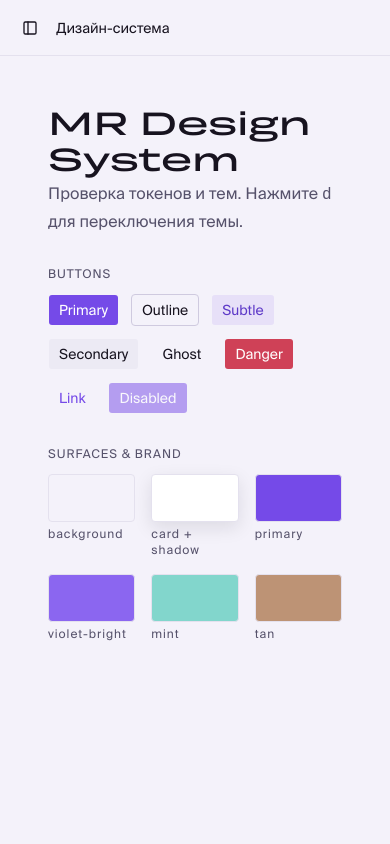
Test case: AppShell — футер › при сворачивании сайдбара футер (тема и юзер) не ломается
Click the button named "Свернуть меню" at {"x": 30, "y": 28}, box [16, 14, 44, 42]
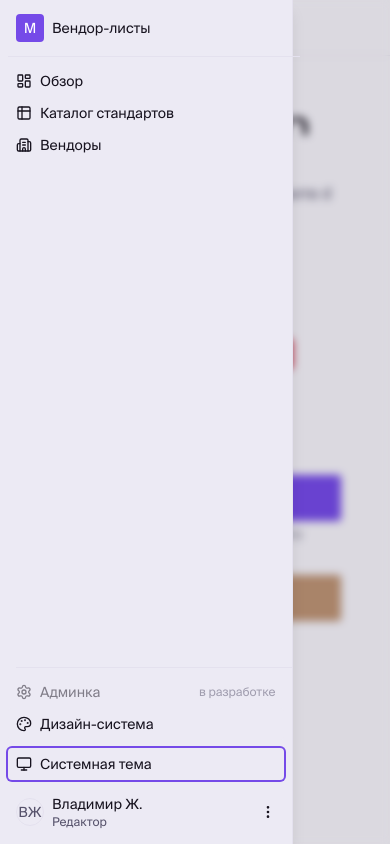
Now the button "Системная тема" is shown, box [8, 748, 284, 780]
Now the text "Владимир Ж." is shown, box [52, 794, 142, 814]
